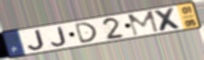2: (101, 16, 126, 42)
D: (73, 21, 99, 45)
J: (26, 29, 46, 52), (50, 26, 68, 47)
M: (127, 9, 161, 37)
X: (151, 6, 184, 32)
